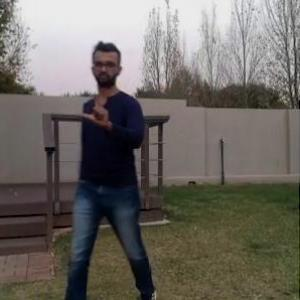land_hand: (78, 88, 114, 129)
